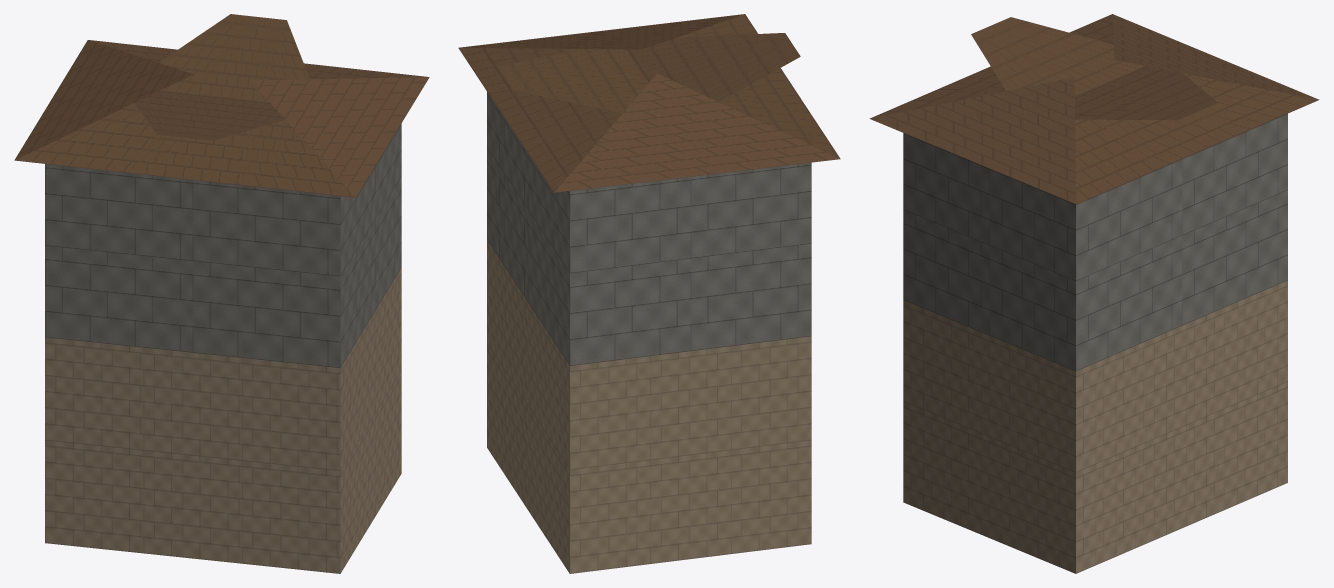
Rendered from bld_c-5_23_603.gltf.
3 renders of one model, left to right at view 1: azimuth 30°, elevation 25°; view 2: azimuth 150°, elevation 25°; view 3: azimuth 270°, elevation 25°, orthographic. The views are drawn at different scales.
Parts seen in each view (by area): view 1: bld_c-5_23_603; view 2: bld_c-5_23_603; view 3: bld_c-5_23_603.
Boxes of the visible parts, bbox=[...] form: bld_c-5_23_603: bbox=[14, 14, 429, 573]; bld_c-5_23_603: bbox=[458, 14, 840, 573]; bld_c-5_23_603: bbox=[869, 14, 1319, 573].
Size of the model in its own units: 10.04 by 10.4 by 10.02.
3 materials, 3 textured.
